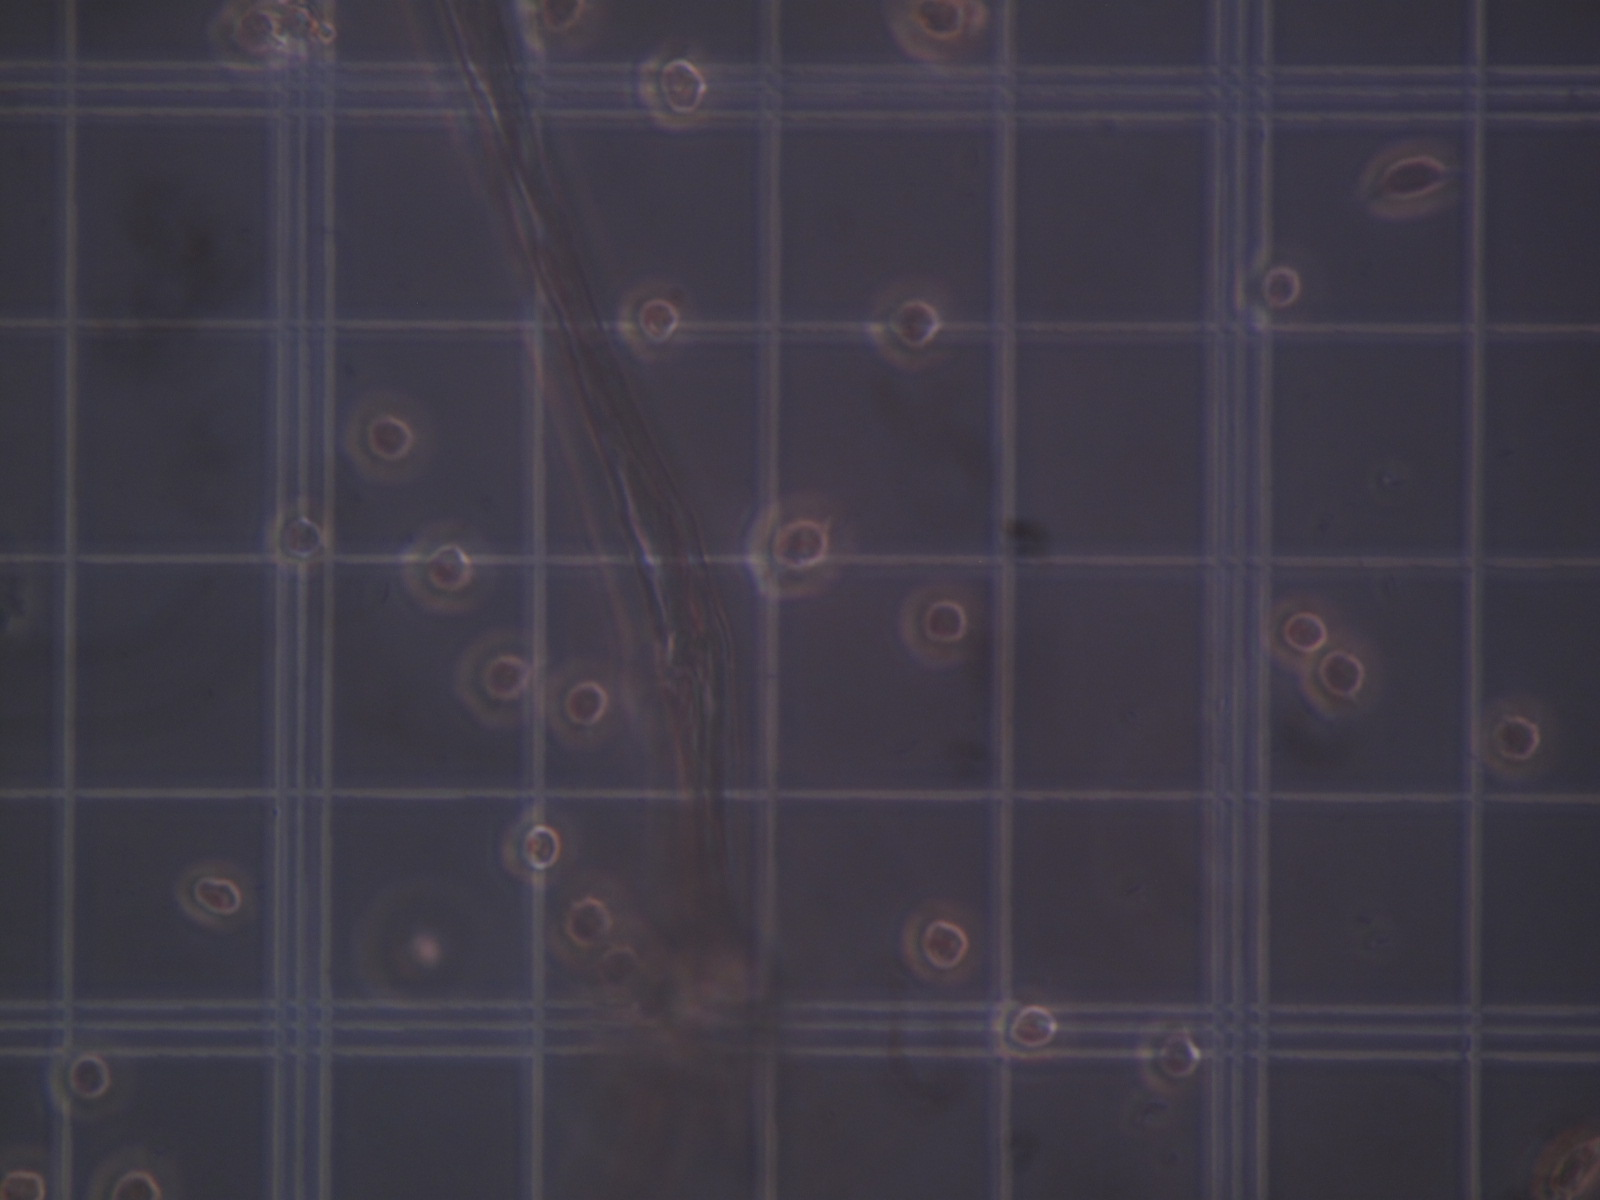hemo: (745, 493, 850, 599), (454, 628, 547, 727), (401, 521, 493, 613), (1358, 139, 1456, 219), (345, 389, 428, 484), (547, 871, 627, 968), (47, 1035, 134, 1121), (866, 281, 944, 371), (544, 658, 622, 747), (901, 899, 981, 984), (898, 584, 981, 666), (1477, 695, 1556, 779), (884, 1, 986, 62), (1301, 639, 1380, 716), (617, 279, 690, 361), (636, 53, 711, 131), (175, 858, 254, 930), (1265, 594, 1339, 669), (1237, 253, 1306, 330), (991, 989, 1062, 1063), (1531, 1126, 1600, 1200), (500, 811, 567, 886), (207, 3, 278, 72), (1136, 1024, 1202, 1095), (517, 1, 601, 55), (266, 503, 331, 568), (88, 1150, 171, 1200), (1, 1146, 55, 1200)
